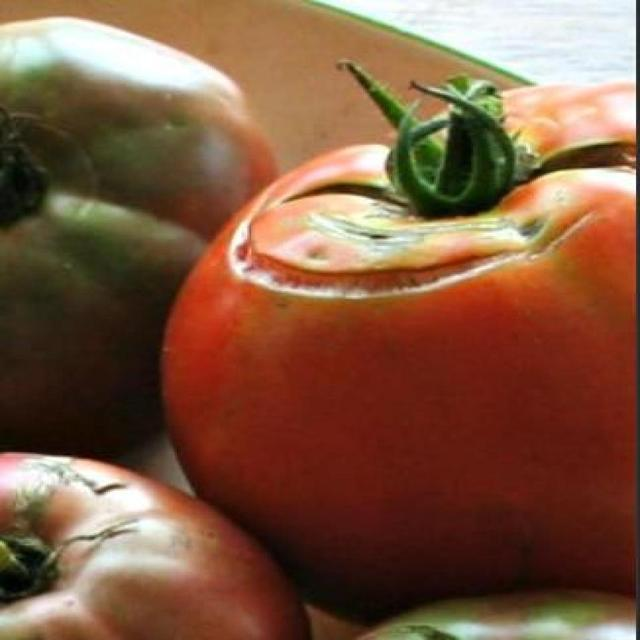Cracking Fruit: (111, 28, 278, 160)
